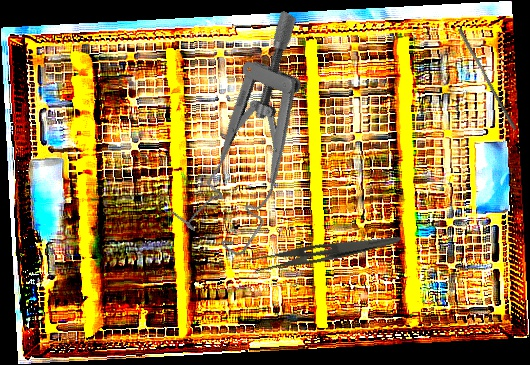Dressing Forceps: (242, 219, 402, 281)
Pusher: (454, 27, 521, 131)
Speculum: (153, 8, 367, 261)
